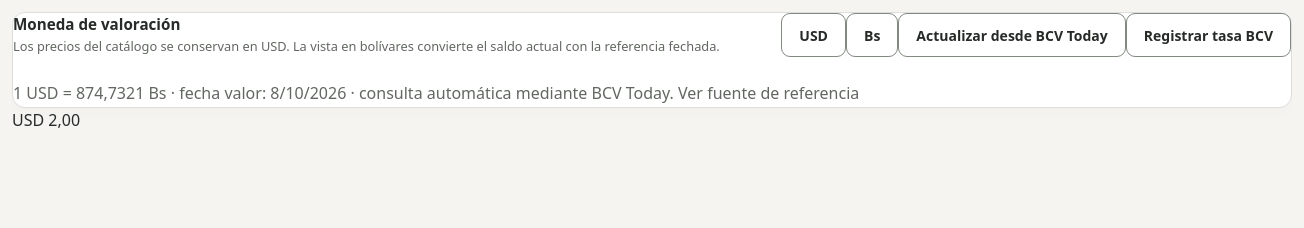
Test case: converts the view from the saved reference and preserves it after a provider failure
This screenshot has width=1304, height=228.
Expected: the text "consulta automática mediante BCV Today" is shown, x1=359 y1=82 x2=670 y2=104
What coordinates should you click on to do the following:
click the button "Bs"
I would click on:
 (872, 35)
Its box is x1=846 y1=13 x2=898 y2=57.
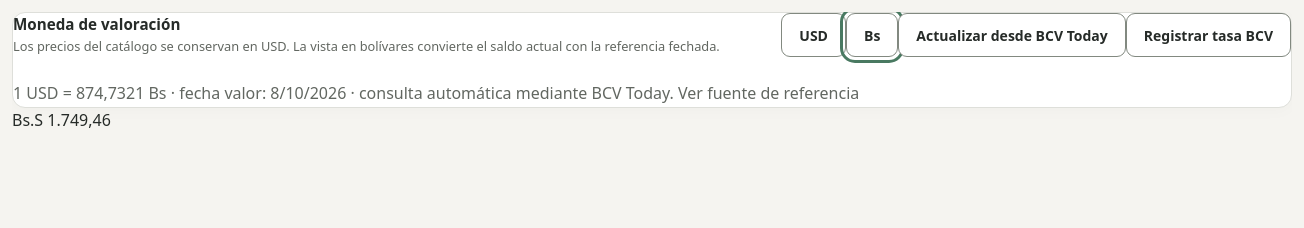
What coordinates should you click on to do the following:
click the button "Actualizar desde BCV Today"
I would click on:
 (1012, 35)
Its box is x1=898 y1=13 x2=1126 y2=57.
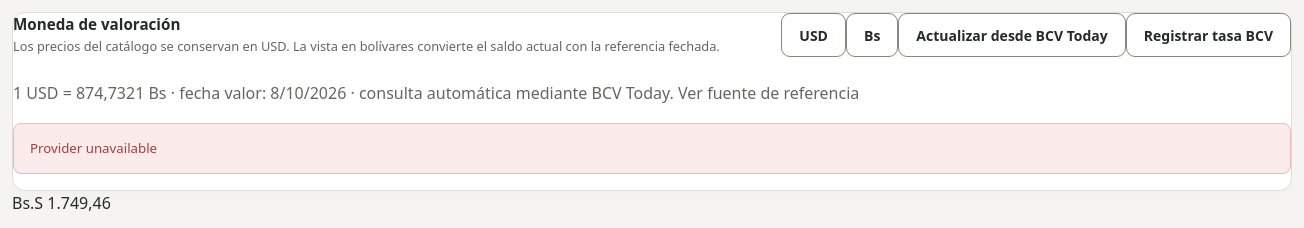
Now the message reads "Provider unavailable", box x1=30 y1=139 x2=157 y2=157
